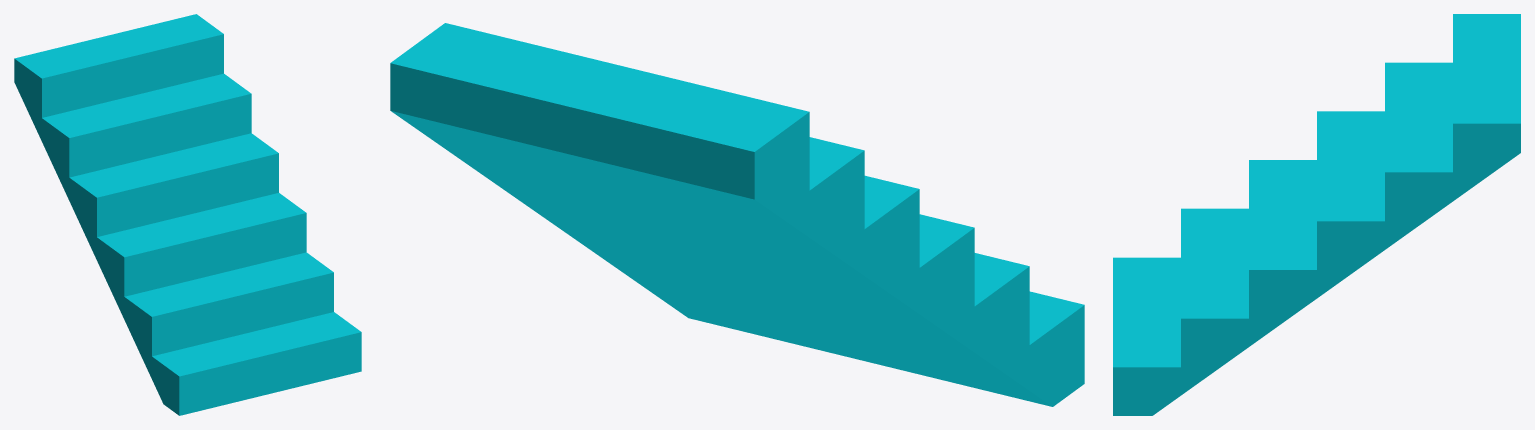
File: Stairs_072.glb
3 views of the same model, side by side, from view 1: azimuth 30°, elevation 25°; view 2: azimuth 150°, elevation 25°; view 3: azimuth 270°, elevation 25° (orthographic). The views are drawn at different scales.
Parts seen in each view (by area): view 1: Stairs_072; view 2: Stairs_072; view 3: Stairs_072.
Part boxes in pixels (x1,y1,x2,y2): Stairs_072: (14, 14, 361, 415); Stairs_072: (390, 23, 1084, 406); Stairs_072: (1113, 14, 1520, 415).
Size of the model in its own units: 1.62 by 2.01 by 2.54.
Materials: 1 (1 with a texture image).
